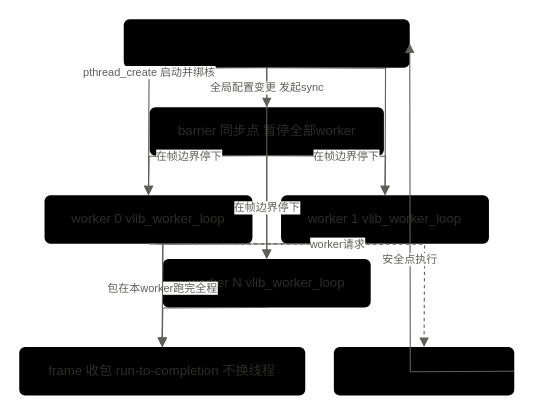
Image size: 542x415. Some labels were removed from this diagram. The centre of each missing label's shape, as x and y in pixels:
"main thread 控制面 CLI/API 全局初始化" belongs at [266,43].
"RPC 回调 请主线程代办" belongs at [423,370].
